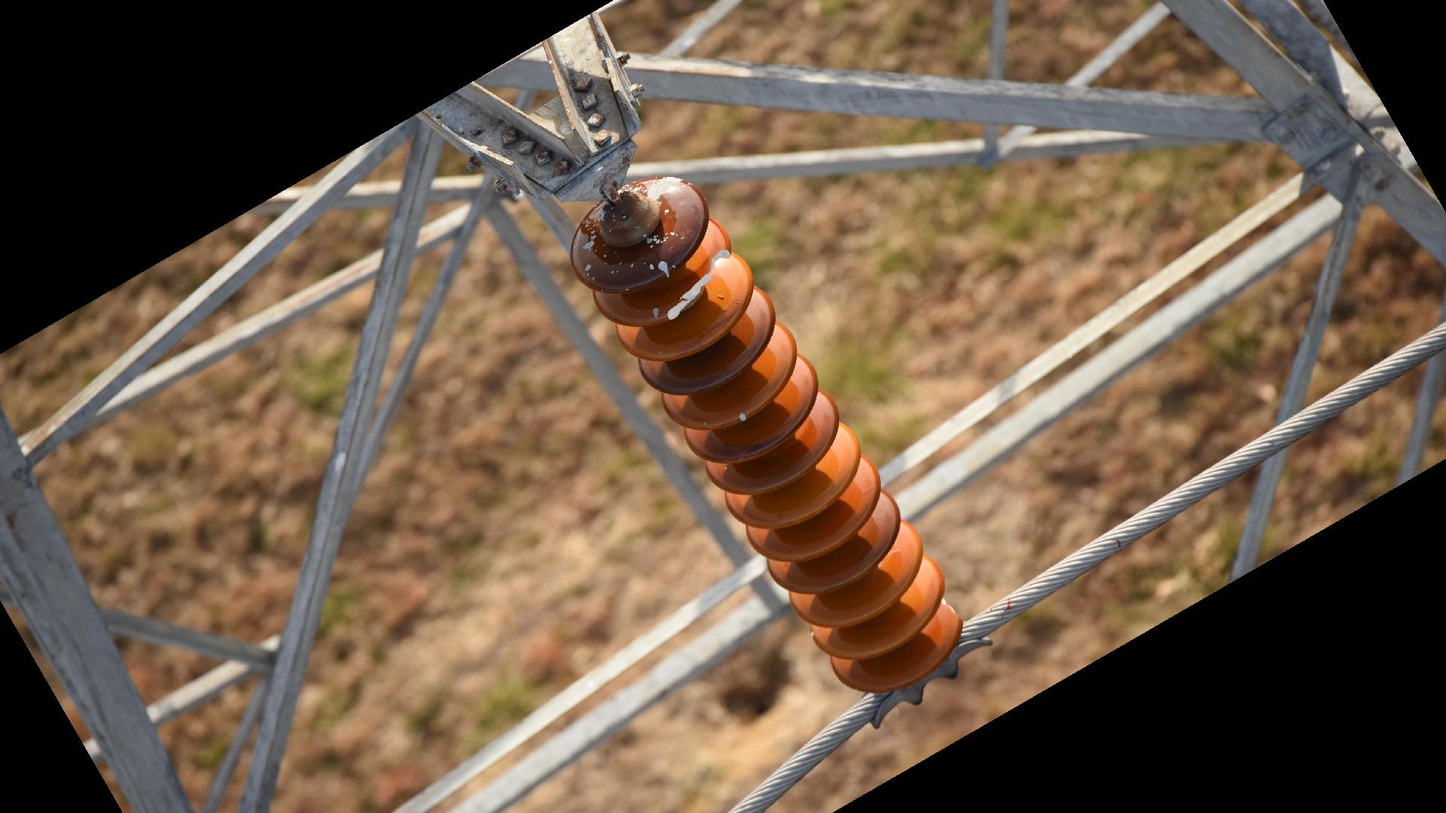insulator: (564, 170, 969, 699)
insulator_breakage: (657, 242, 735, 328), (939, 595, 967, 627)
